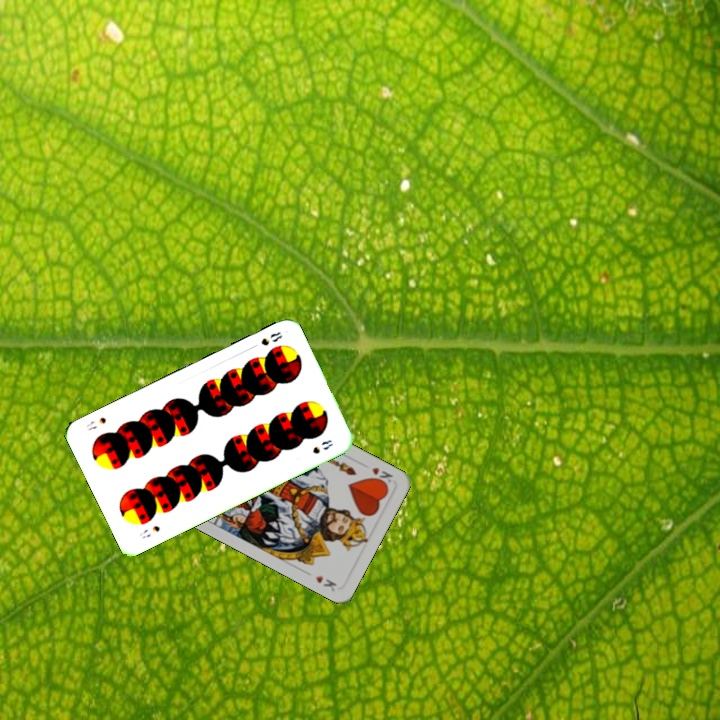HK: (367, 463, 395, 489)
S8: (257, 328, 285, 348), (135, 522, 163, 541)
